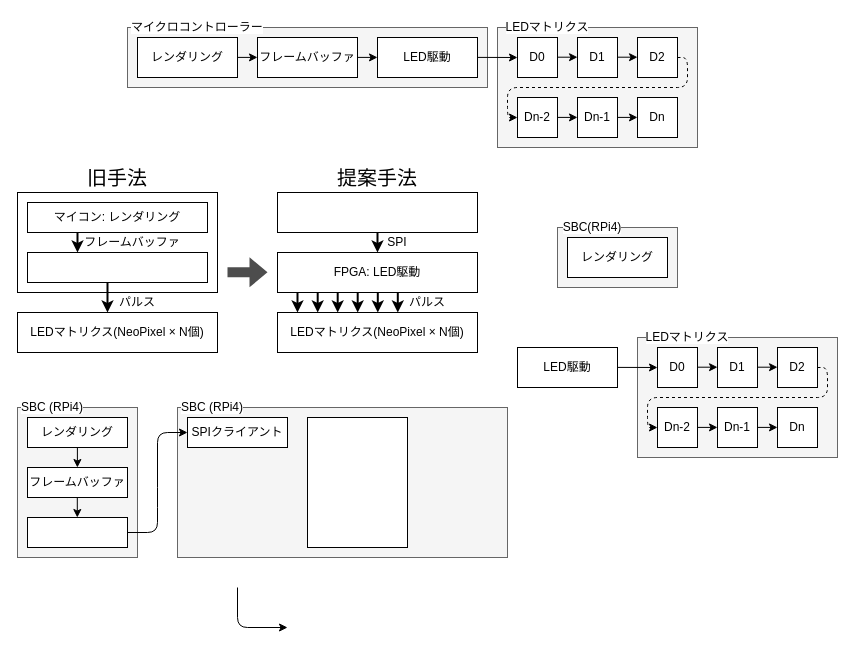
Image size: 855x653. Some labels were removed from this diagram. The centre of each missing label's shape, as x and y in pixels:
SBC: レンダリング: (377,212)
SPIホスト: (77,532)
ダブルバッファ: (357,482)
マイコン: LED駆動: (117,267)
